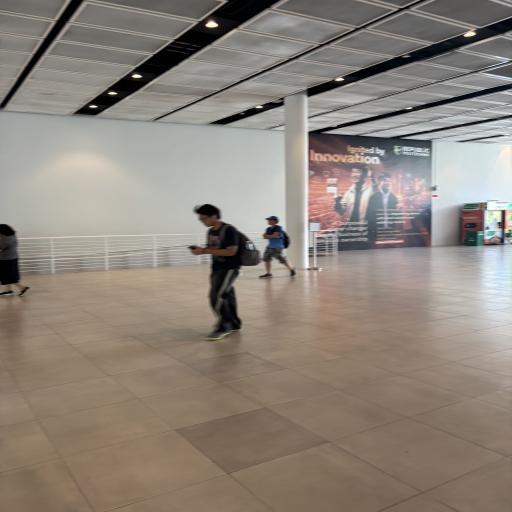person_left: (182, 200, 266, 347), (262, 210, 295, 280)
